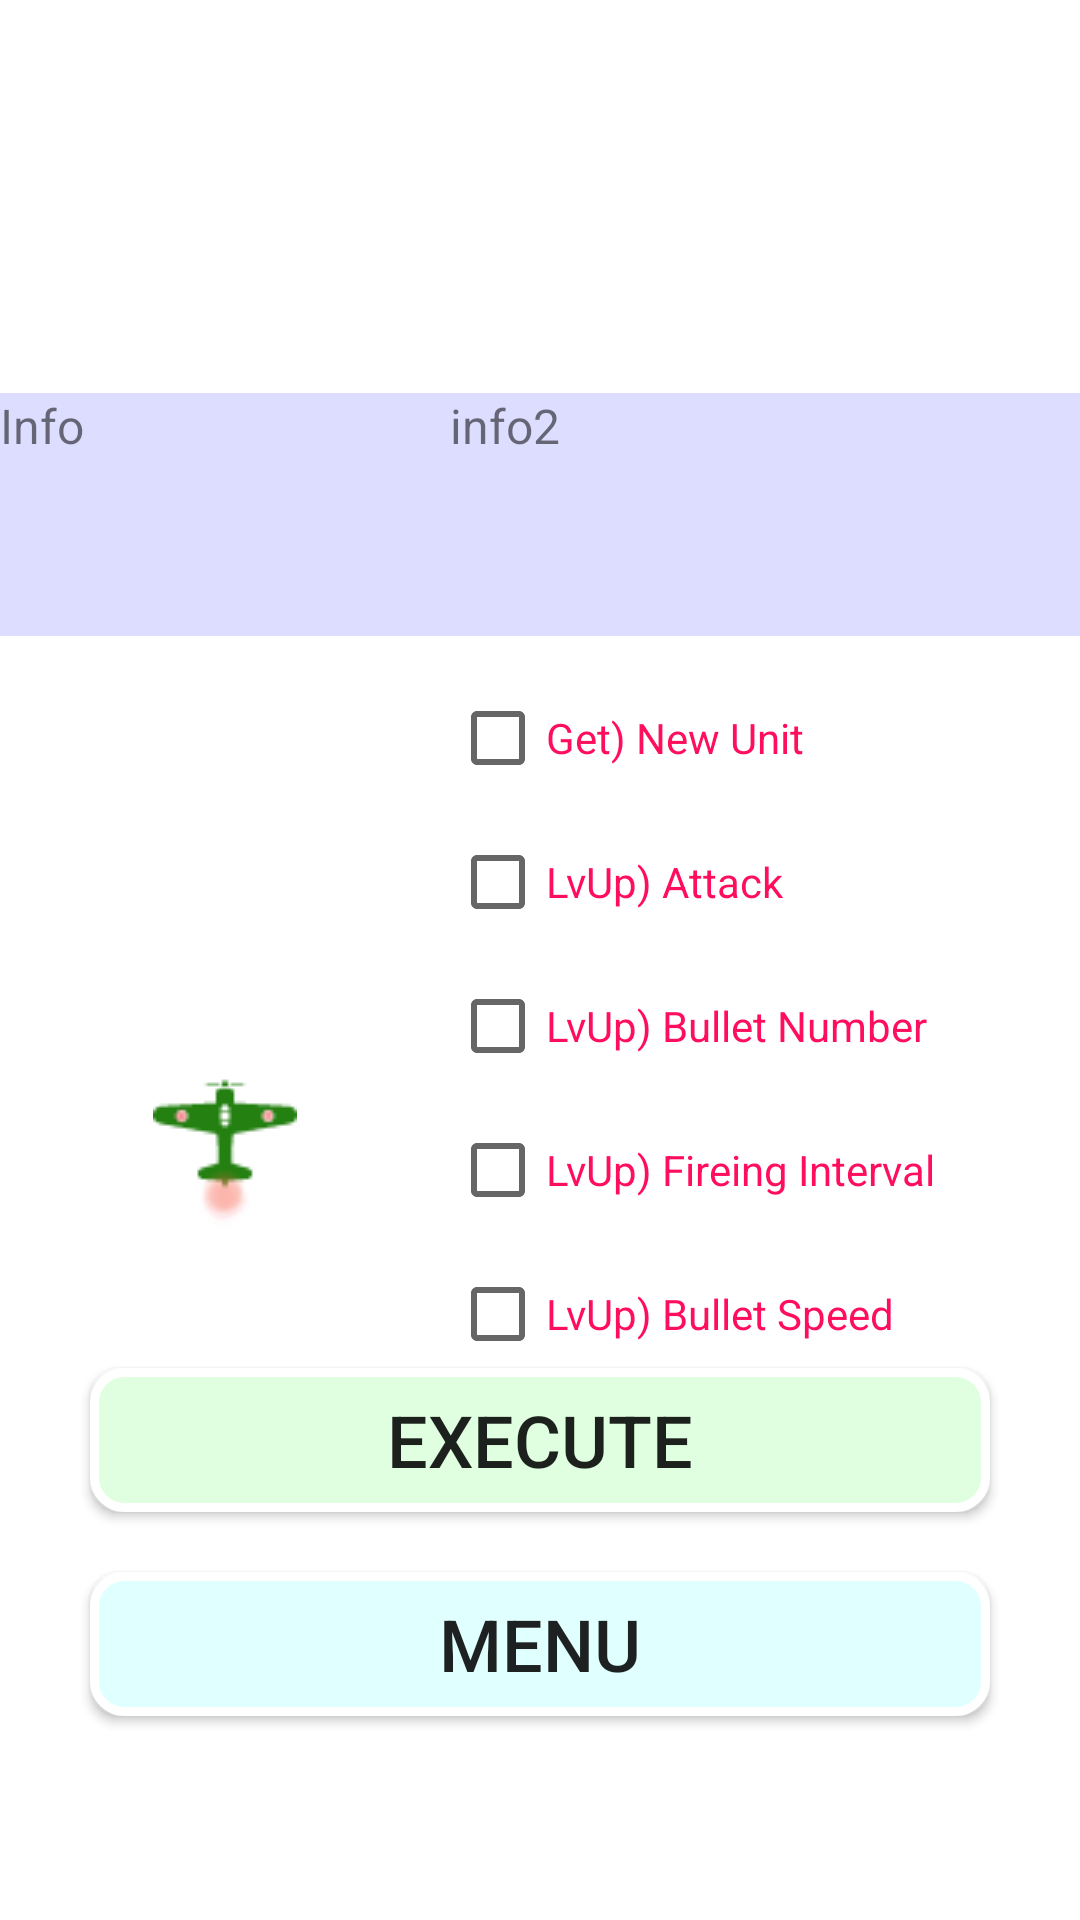

Point at icon controls on the screen. Image size 1080px×1920px, points as (x,y).
plain: (225,1147)
